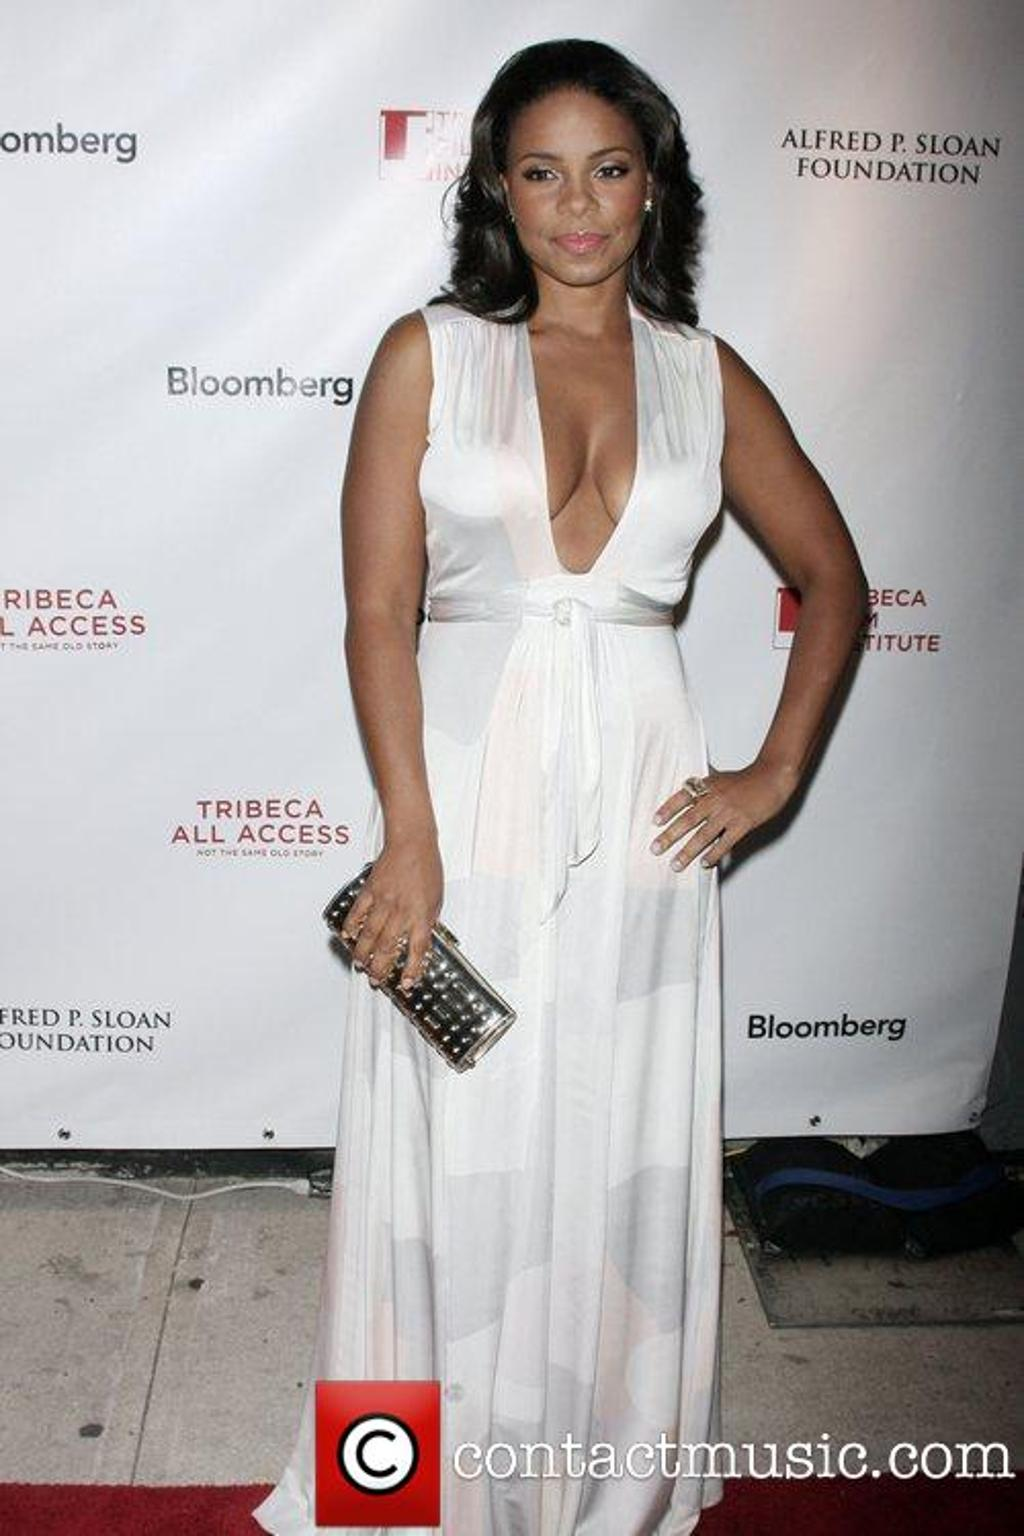face: (501, 99, 645, 288)
